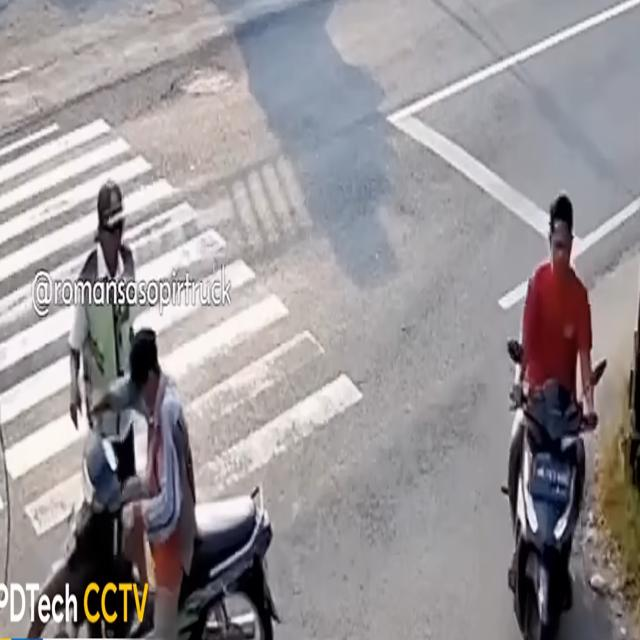WithoutHelmet: (85, 326, 198, 640), (508, 188, 602, 529)
